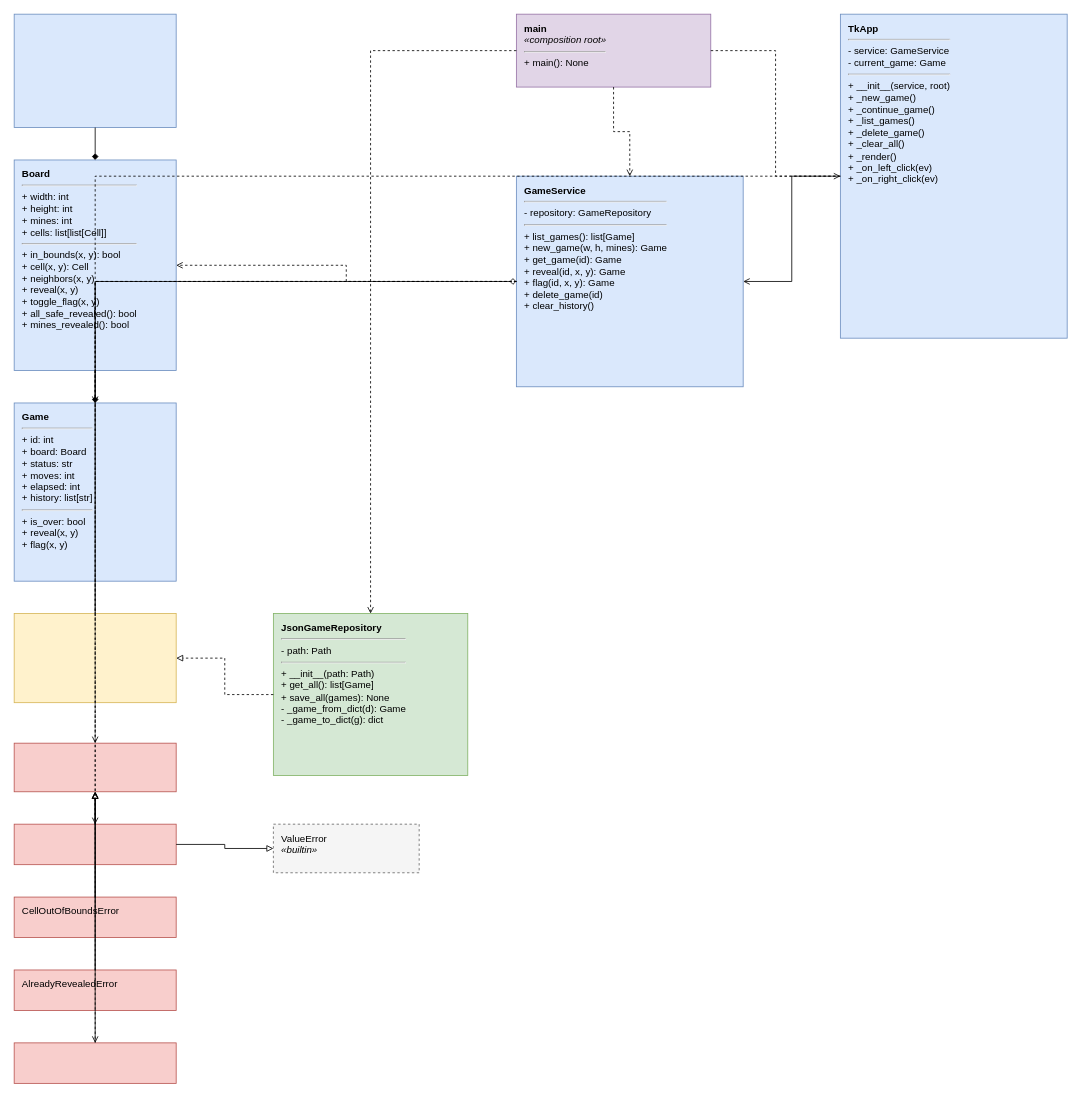
Some shapes in this 1081 by 1098 pixel diagram are drawn without their labels. Here are the shapes that lost their labels. From the top down, the box of each, then its label:
(13, 13, 176, 128): Cell + mine: bool + revealed: bool + flagged: bool + adjacent_mines: int
(13, 613, 176, 703): GameRepository «interface» + get_all(): list[Game] + save_all(games): None
(13, 742, 176, 792): MinesweeperError «exception»
(13, 823, 176, 865): InvalidBoardSizeError
(13, 1042, 176, 1083): GameOverError
